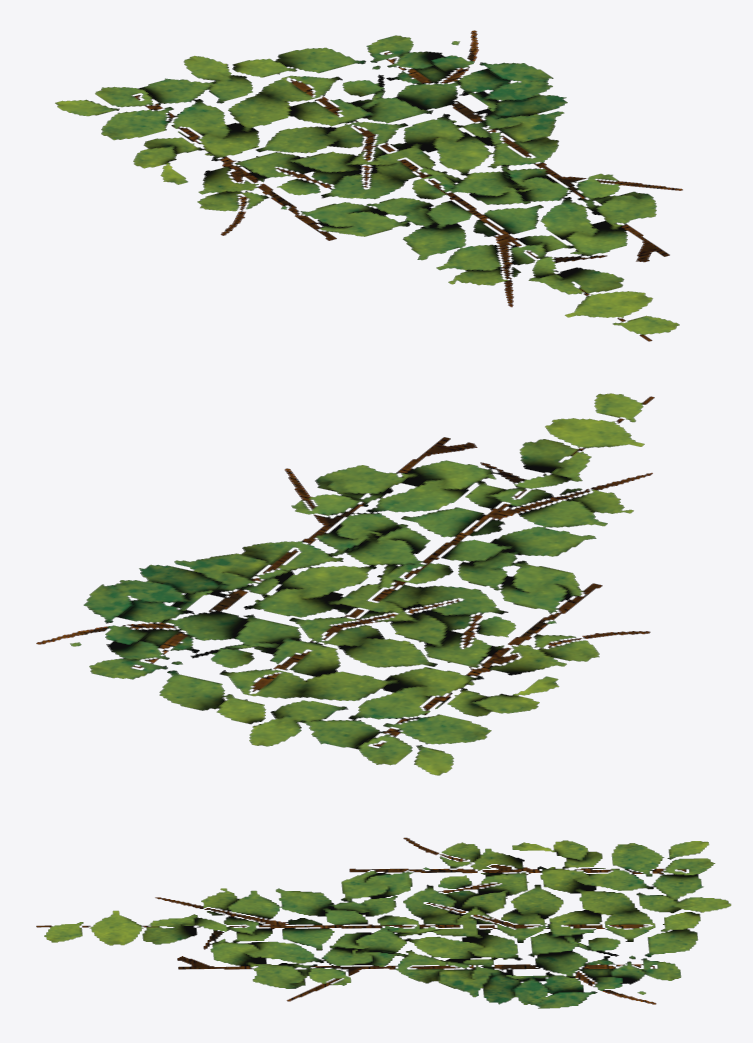
The model's file is Bush_03.fbx.
3 views of the same model, one above another, from view 1: azimuth 30°, elevation 25°; view 2: azimuth 150°, elevation 25°; view 3: azimuth 270°, elevation 25° (orthographic). The views are drawn at different scales.
Parts seen in each view (by area): view 1: Bush_03; view 2: Bush_03; view 3: Bush_03.
Boxes of the visible parts, x1,y1,x2,y2 form: Bush_03: (55,30,682,341); Bush_03: (36,393,654,775); Bush_03: (36,837,731,1008).
Bounding box in the file's own units: 2.11 × 1.19e-09 × 3.17.
